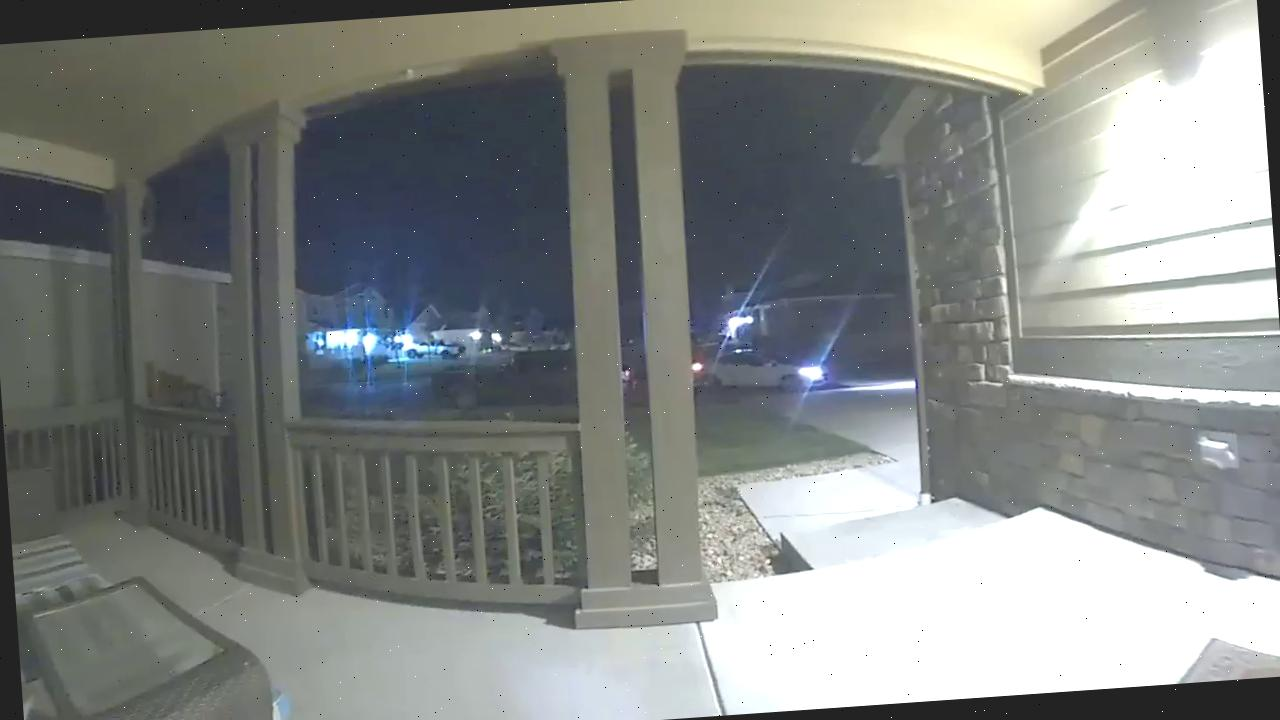suspicion: (432, 326, 639, 412), (688, 337, 858, 397), (390, 334, 472, 368)
